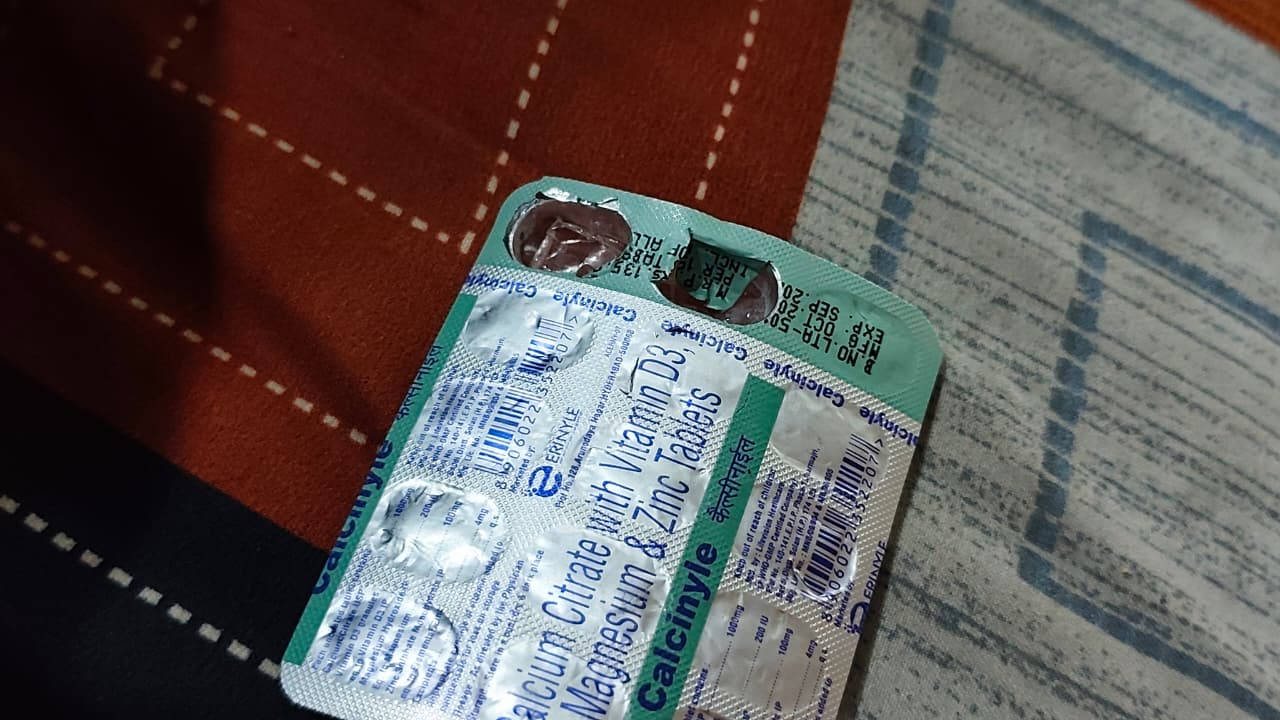MedicineStrip: (285, 185, 944, 720)
